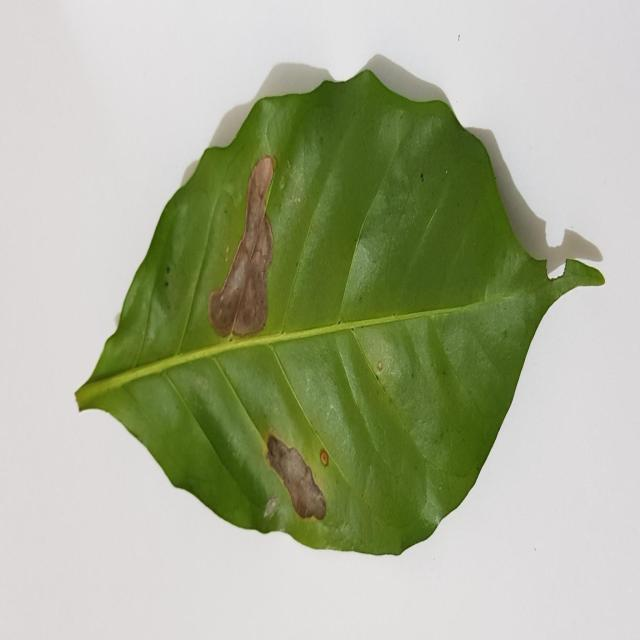Plaga-Minador: (73, 71, 604, 557)
